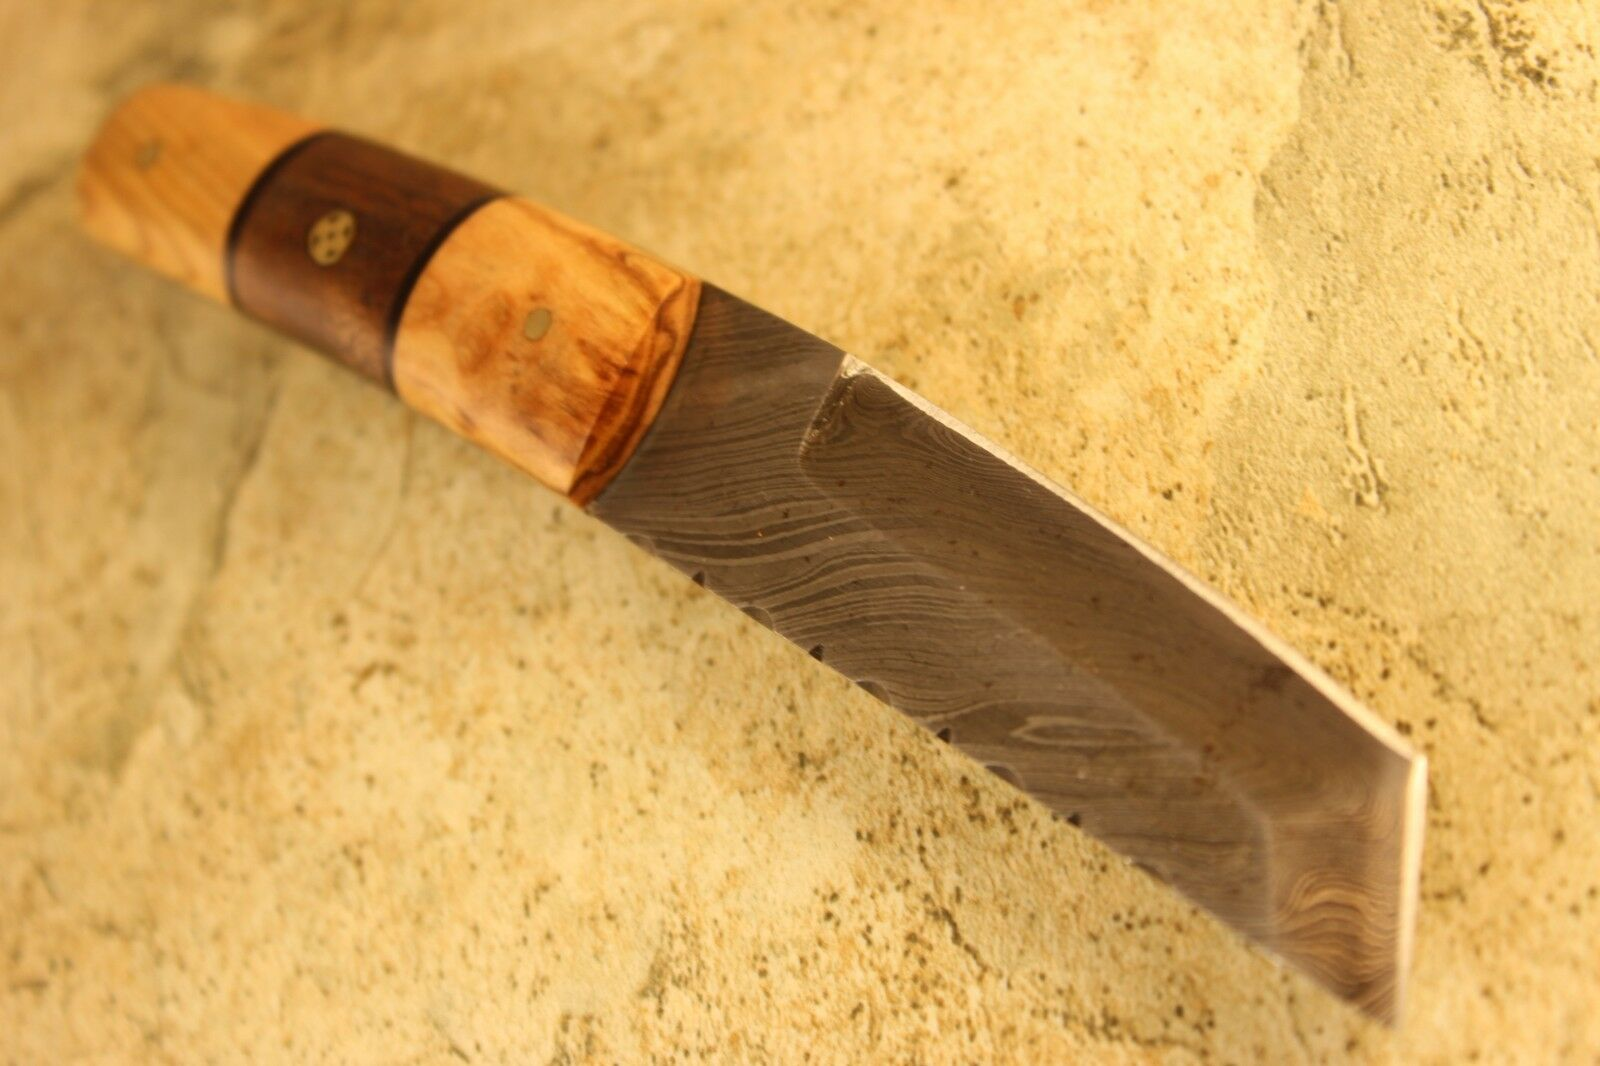knief: (106, 96, 1472, 1014)
